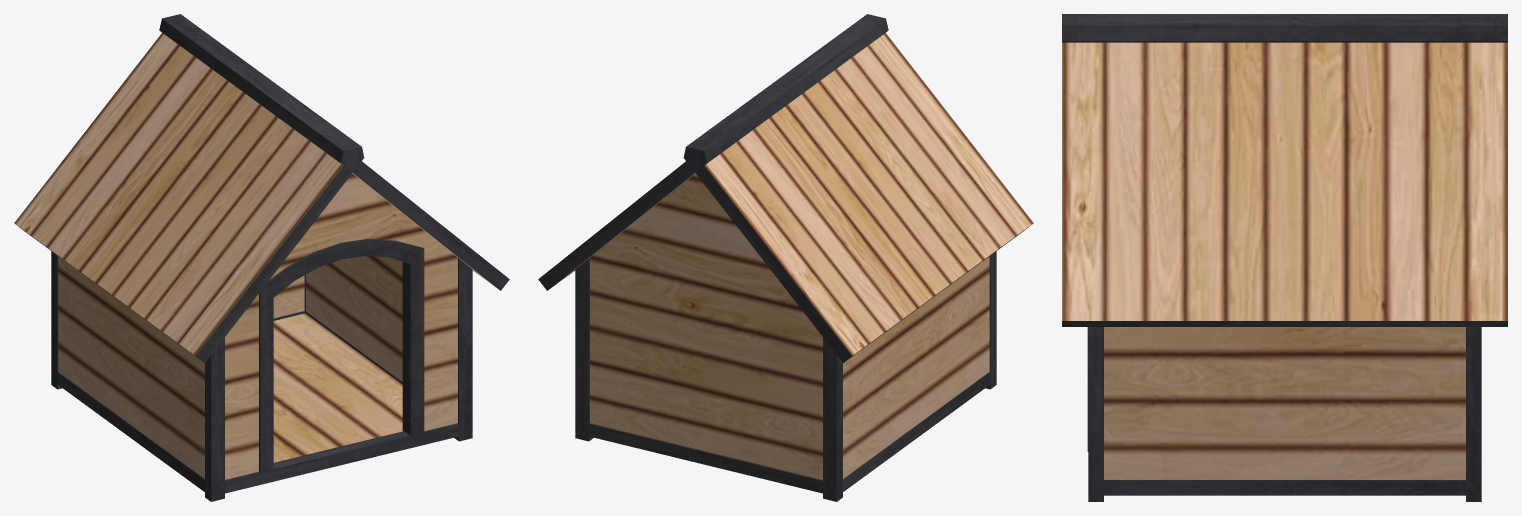
File: sh-scopia-dog-house.glb
3 views of the same model, side by side, from view 1: azimuth 30°, elevation 25°; view 2: azimuth 150°, elevation 25°; view 3: azimuth 270°, elevation 25° (orthographic). The views are drawn at different scales.
Parts seen in each view (by area): view 1: Cube.003; view 2: Cube.003; view 3: Cube.003.
Part boxes in pixels (box(x1,y1,x2,y2)): Cube.003: box(14, 14, 509, 501); Cube.003: box(538, 14, 1033, 501); Cube.003: box(1062, 14, 1507, 501).
Bounding box in the file's own units: 1 × 1 × 1.
Materials: 1 (1 with a texture image).
